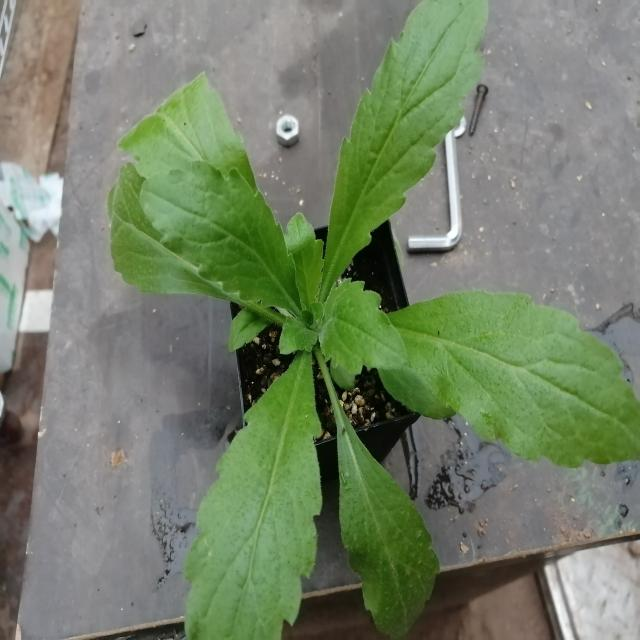horseweed: (106, 51, 596, 612)
